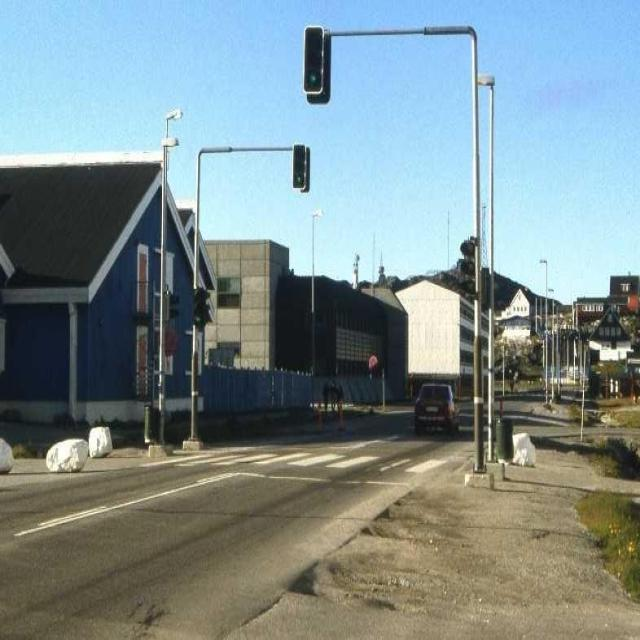Traffic Light -Green-: (299, 25, 333, 107), (290, 141, 310, 195)
